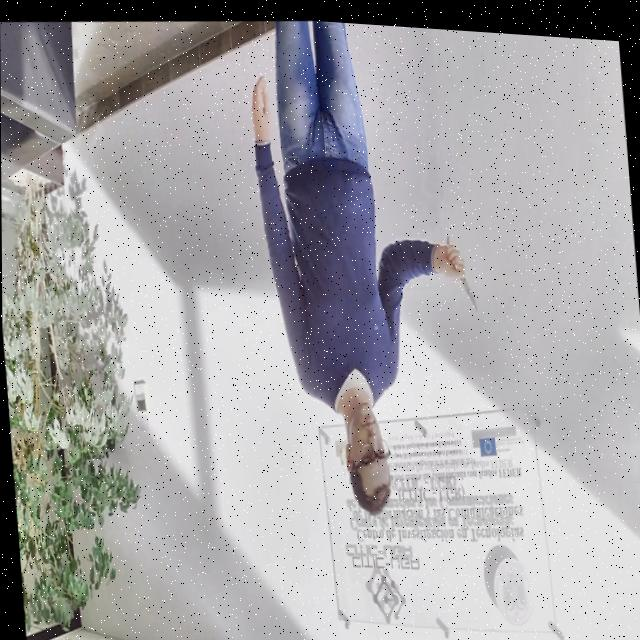knife: (460, 265, 478, 307)
